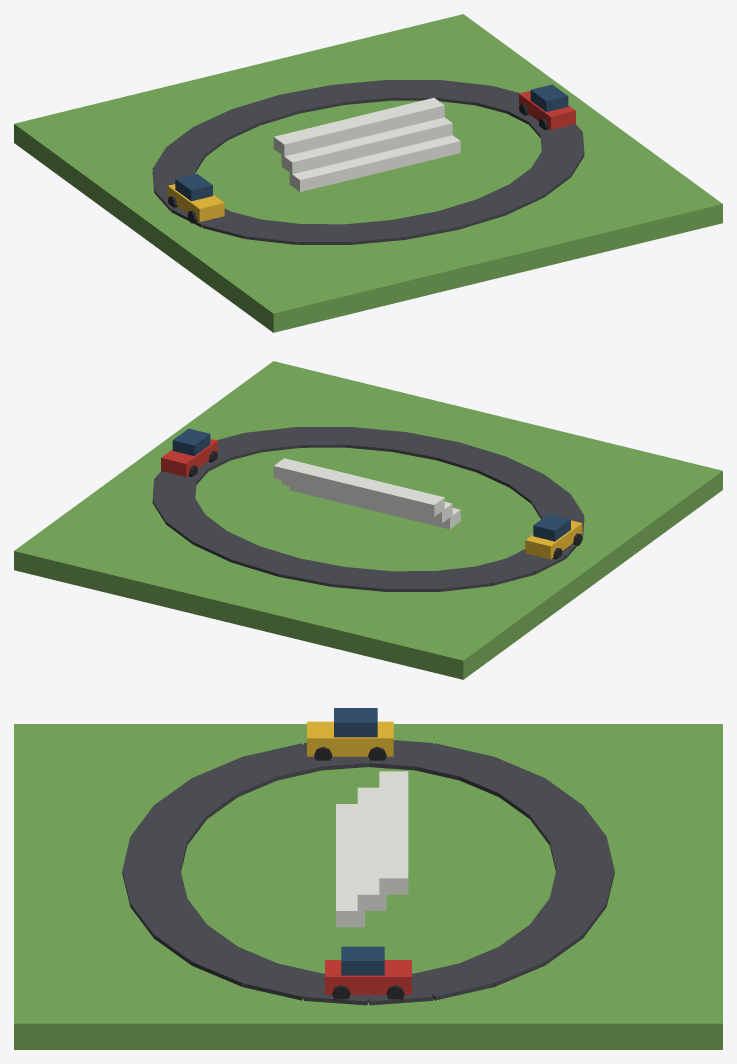
The model's file is auto_special_2.glb.
3 renders of one model, top to bottom at view 1: azimuth 30°, elevation 25°; view 2: azimuth 150°, elevation 25°; view 3: azimuth 270°, elevation 25°, orthographic. The views are drawn at different scales.
Parts seen in each view (by area): view 1: auto_special_2; view 2: auto_special_2; view 3: auto_special_2.
Boxes of the visible parts, box(x1,y1,x2,y2) form: auto_special_2: box(14, 14, 722, 332); auto_special_2: box(14, 361, 722, 679); auto_special_2: box(14, 708, 722, 1049).
Size of the model in its own units: 1.96 by 0.23 by 1.96.
